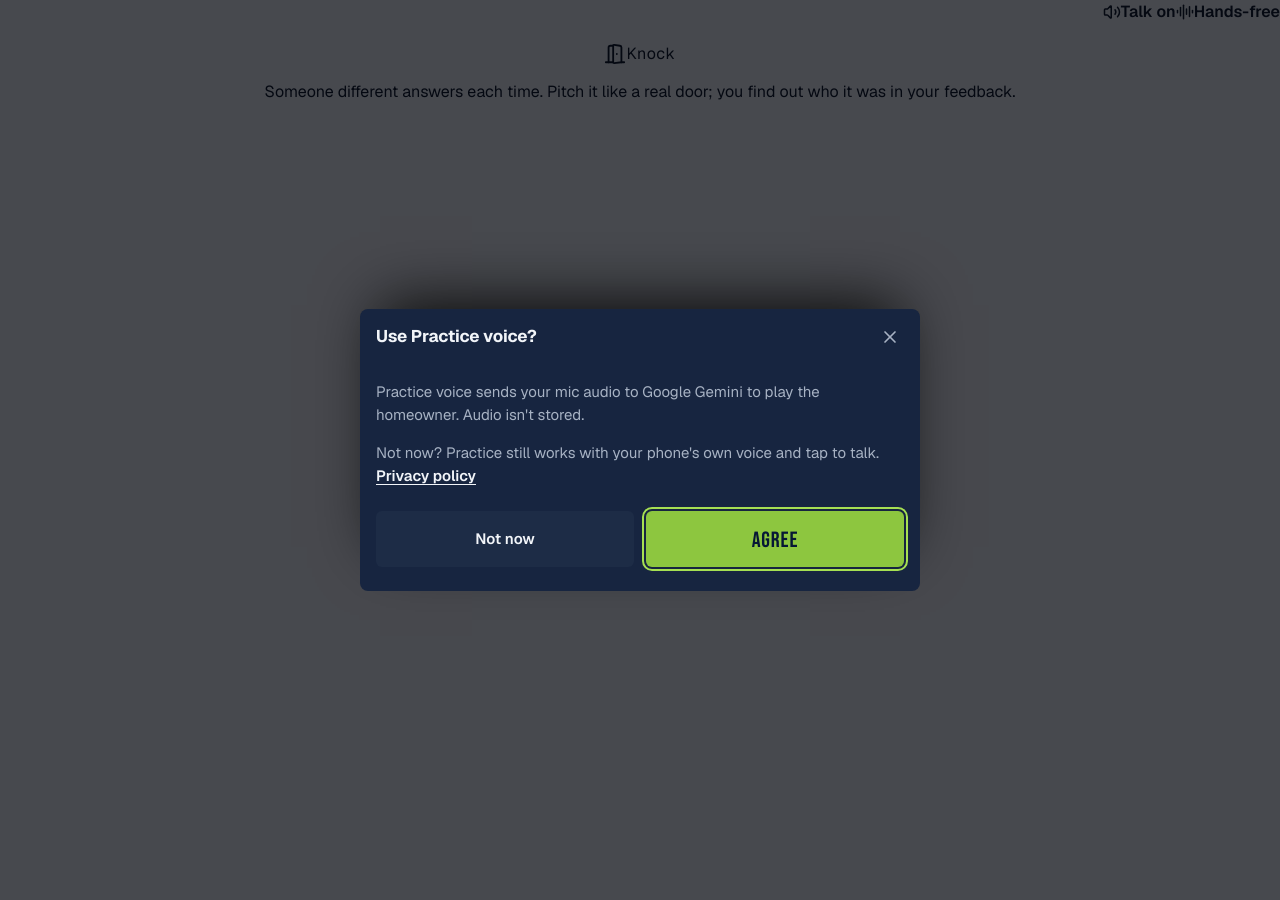
it: RepPractice › with Talk on and no Practice voice consent: asks first, with the exact wording, and Not now closes it
Click the button "Not now" at (505, 539), box [376, 511, 634, 567]
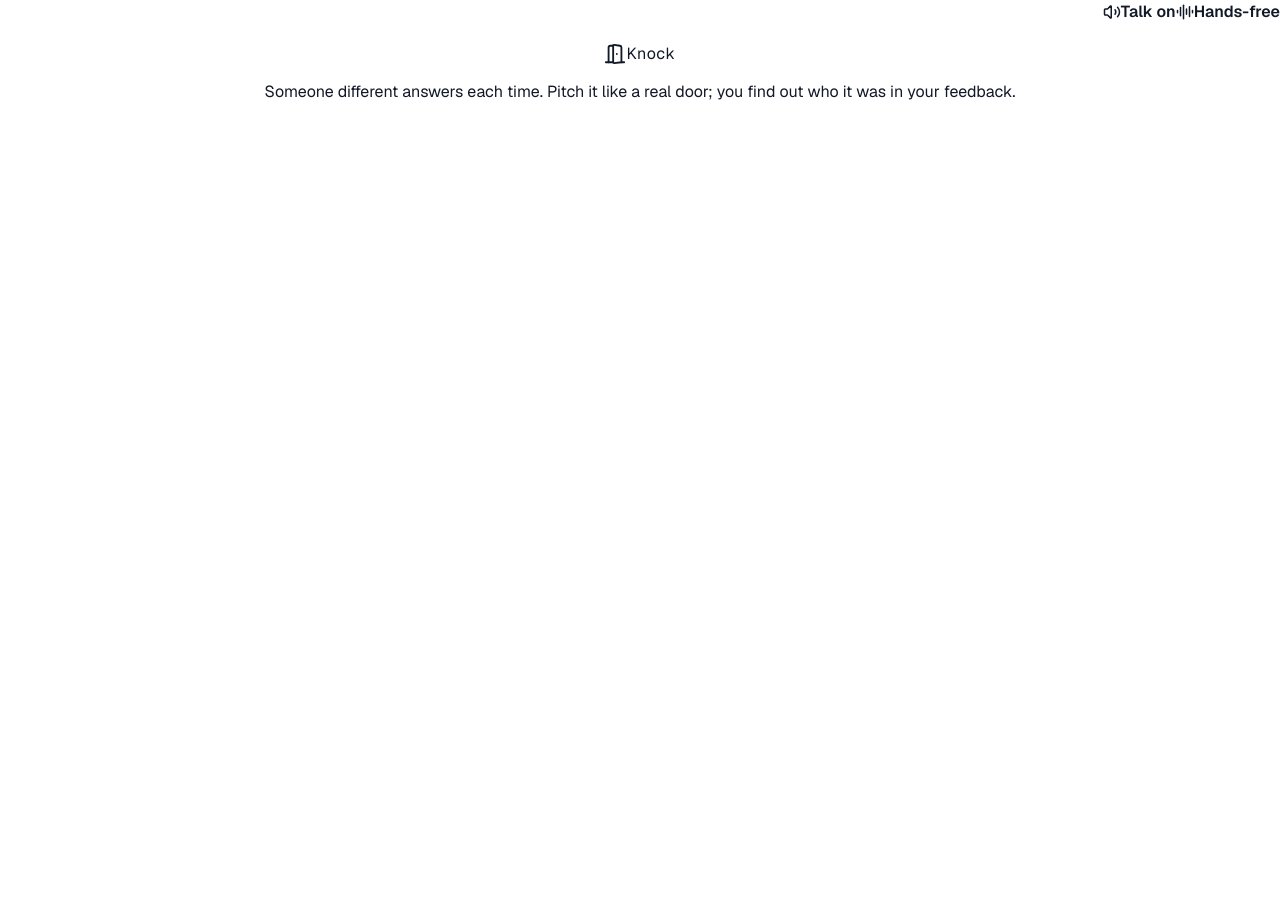
Now the text "Practice voice sends your mic audio" is gone
